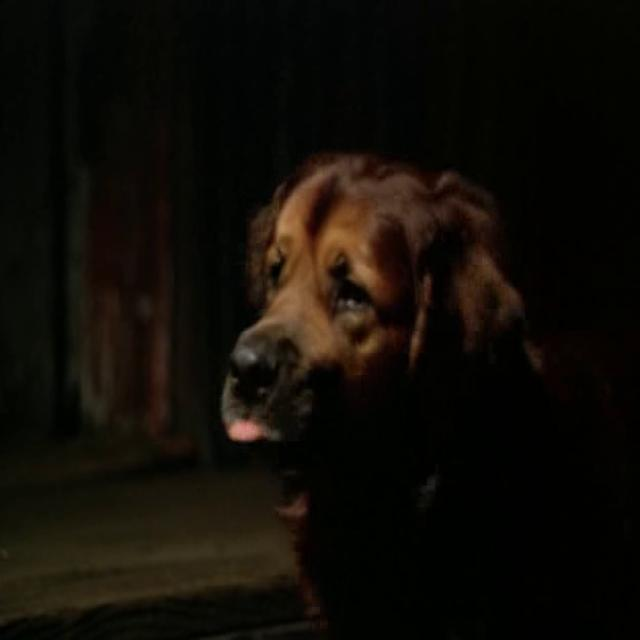Dog: (187, 144, 612, 614)
